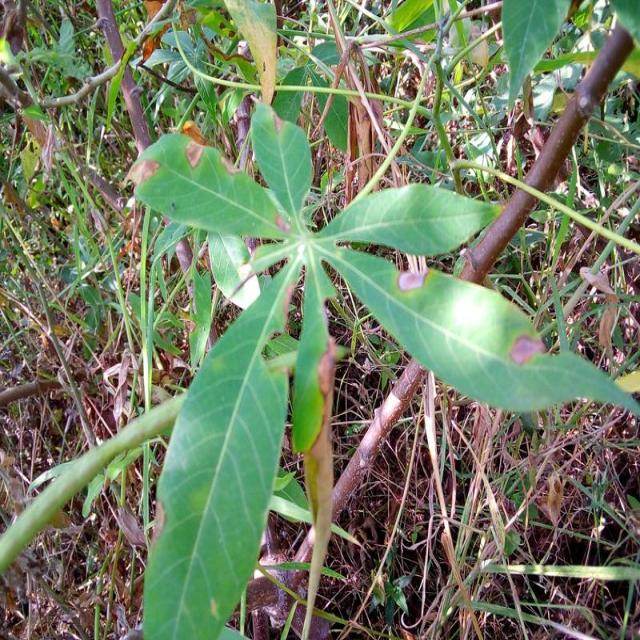cassava leaf: (128, 101, 636, 637), (141, 258, 296, 638), (318, 242, 638, 418), (125, 131, 288, 240), (316, 181, 502, 257)
